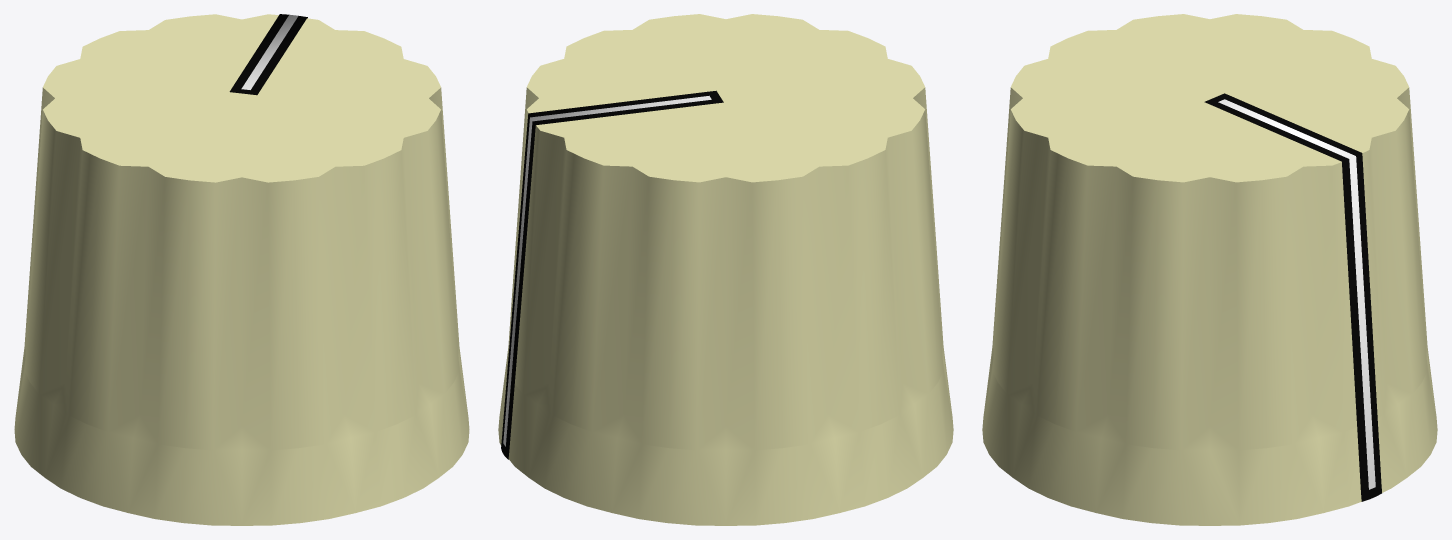
Rendered from Rotating_Position_Knob_V1.fbx.
3 renders of one model, left to right at view 1: azimuth 30°, elevation 25°; view 2: azimuth 150°, elevation 25°; view 3: azimuth 270°, elevation 25°, orthographic.
Parts seen in each view (by area): view 1: Rotating_Position_Knob, Trim; view 2: Rotating_Position_Knob, Trim; view 3: Rotating_Position_Knob, Trim.
Part boxes in pixels (box(x1,y1,x2,y2)): Rotating_Position_Knob: box(14, 14, 469, 525); Trim: box(229, 14, 307, 95); Rotating_Position_Knob: box(498, 14, 953, 525); Trim: box(501, 90, 723, 459); Rotating_Position_Knob: box(982, 14, 1437, 525); Trim: box(1204, 93, 1381, 501).
Bounding box in the file's own units: 2.27 × 1.83 × 2.27.
